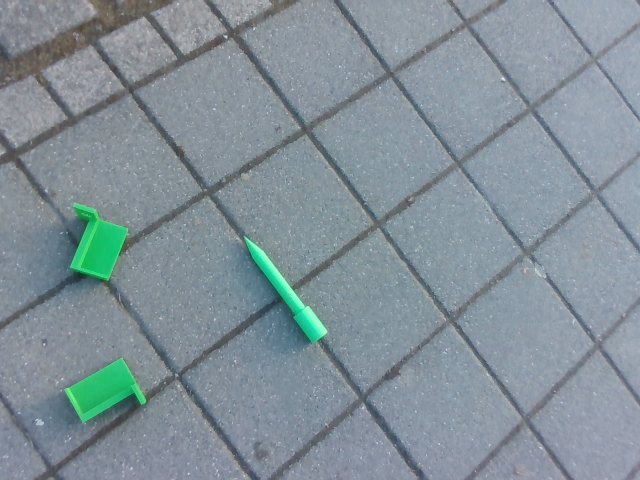Probe: (238, 231, 334, 352)
